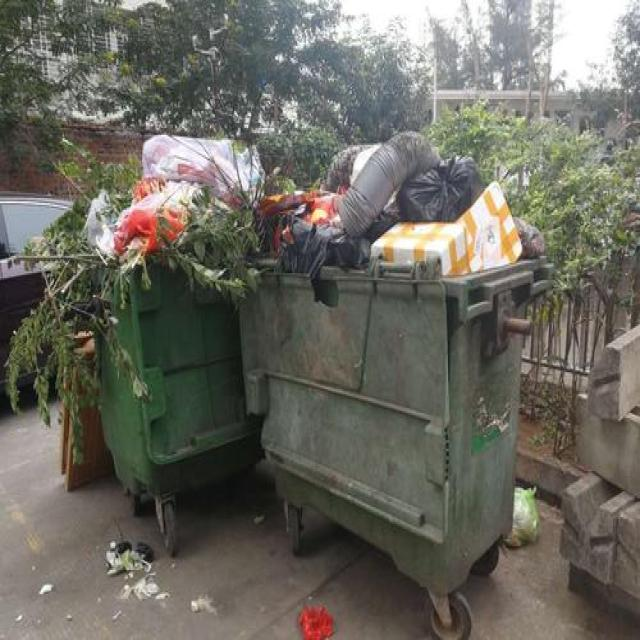garbage: (105, 538, 166, 616), (503, 485, 538, 546), (297, 601, 331, 638)
overflow: (239, 130, 553, 596), (4, 132, 261, 488)
